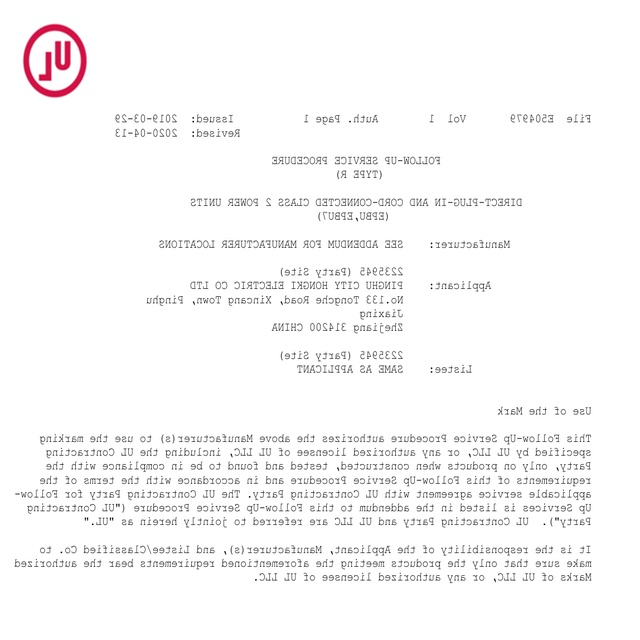ul: (21, 22, 89, 100)
